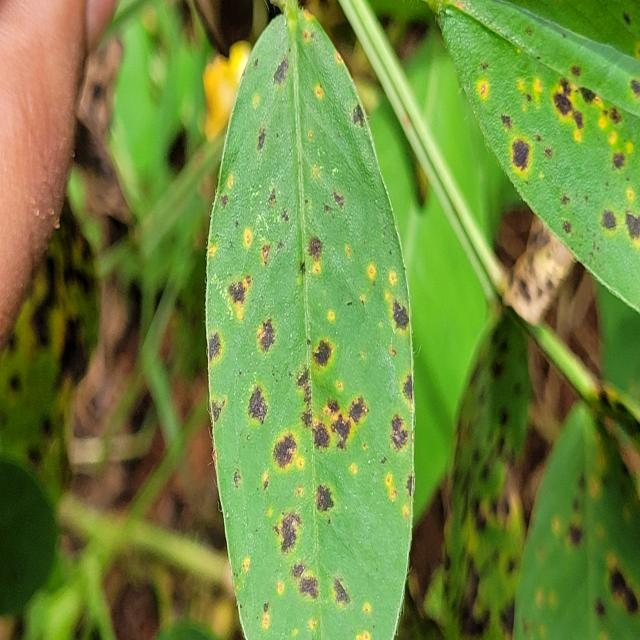Ground nut_tikka leaf spot: (205, 0, 416, 640)
